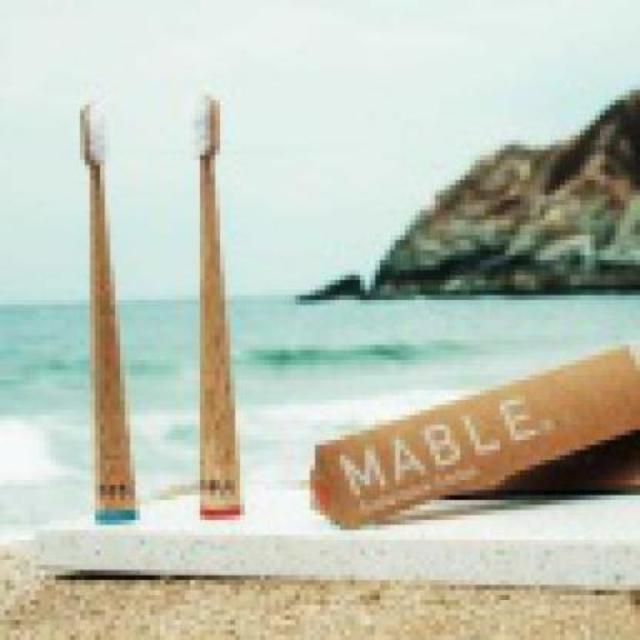toothbrush: (67, 88, 159, 536)
